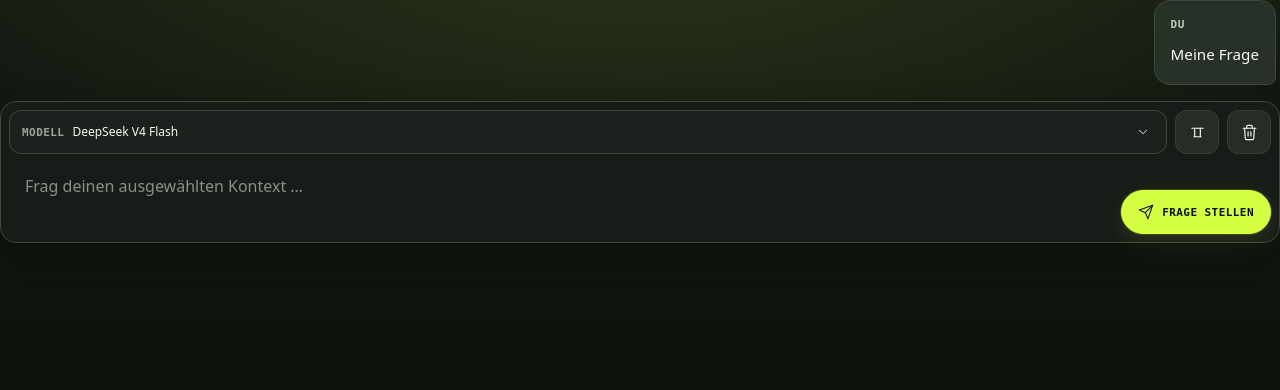
Test case: ChatPanel › leert den Chatverlauf bei Klick auf den Mülleimer-Button
Expected: the text "Meine Frage" is shown, [1171,40,1259,68]
Click the button named "chat leeren" at [1249, 132], box [1227,110,1271,154]
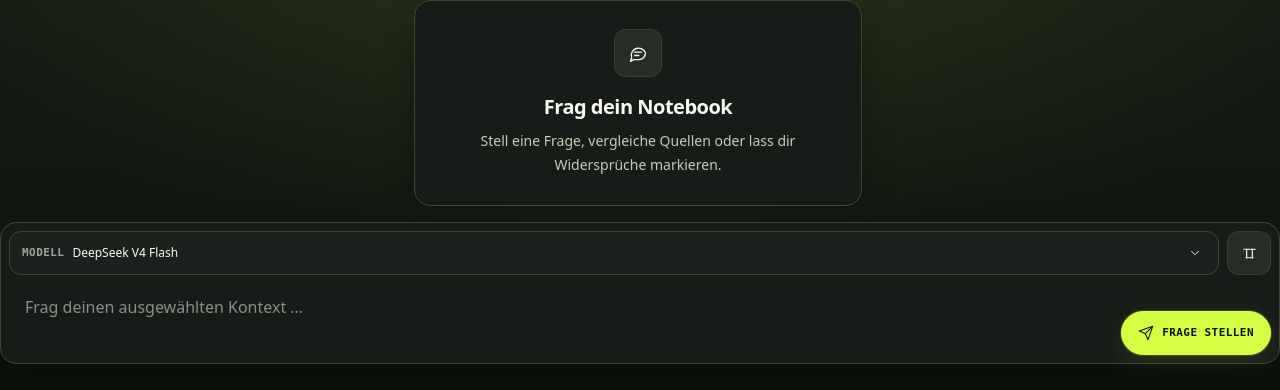
Expected: the text "Meine Frage" is gone
